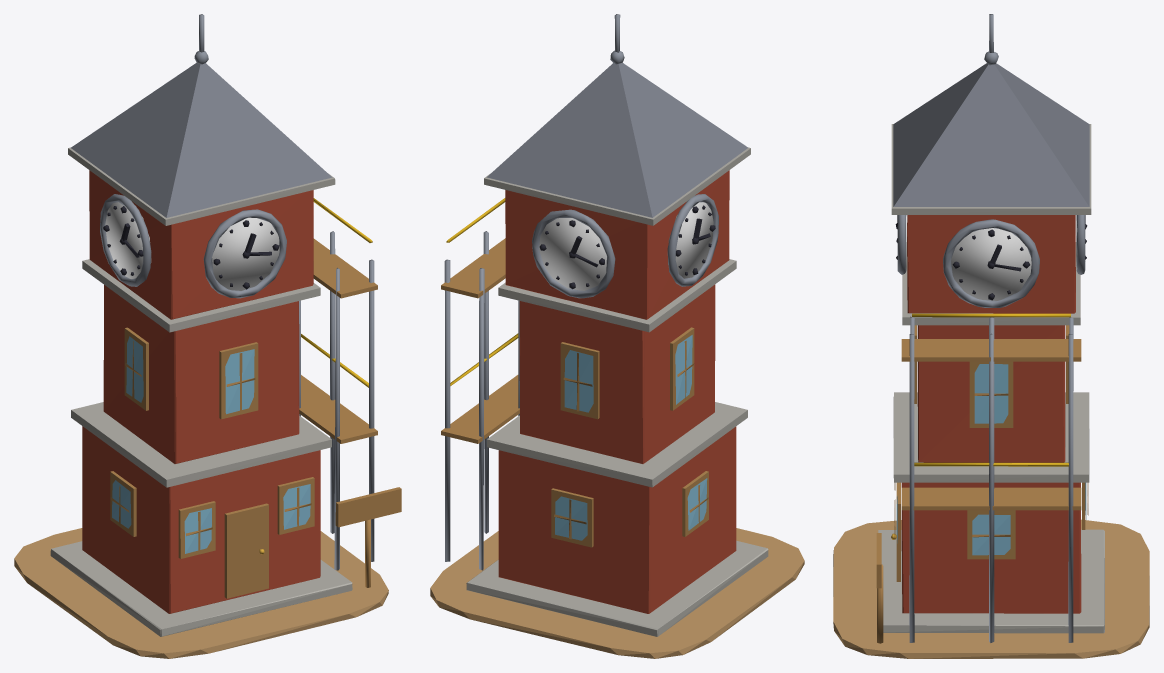
File: clock-tower-lod1-3.fba1596b.glb
3 views of the same model, side by side, from view 1: azimuth 30°, elevation 25°; view 2: azimuth 150°, elevation 25°; view 3: azimuth 270°, elevation 25° (orthographic). The views are drawn at different scales.
Visible parts, largest first — view 1: ClockTower_Stage3__T_vcol; view 2: ClockTower_Stage3__T_vcol; view 3: ClockTower_Stage3__T_vcol.
Part boxes in pixels (x1,y1,x2,y2): ClockTower_Stage3__T_vcol: [14, 14, 401, 658]; ClockTower_Stage3__T_vcol: [430, 14, 804, 658]; ClockTower_Stage3__T_vcol: [833, 14, 1149, 658].
Size of the model in its own units: 4.96 by 9.62 by 4.78.
